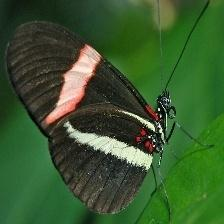butterfly: (7, 23, 176, 214)
